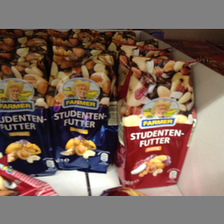nuts: (117, 55, 196, 190), (45, 45, 116, 175), (1, 46, 57, 179)
